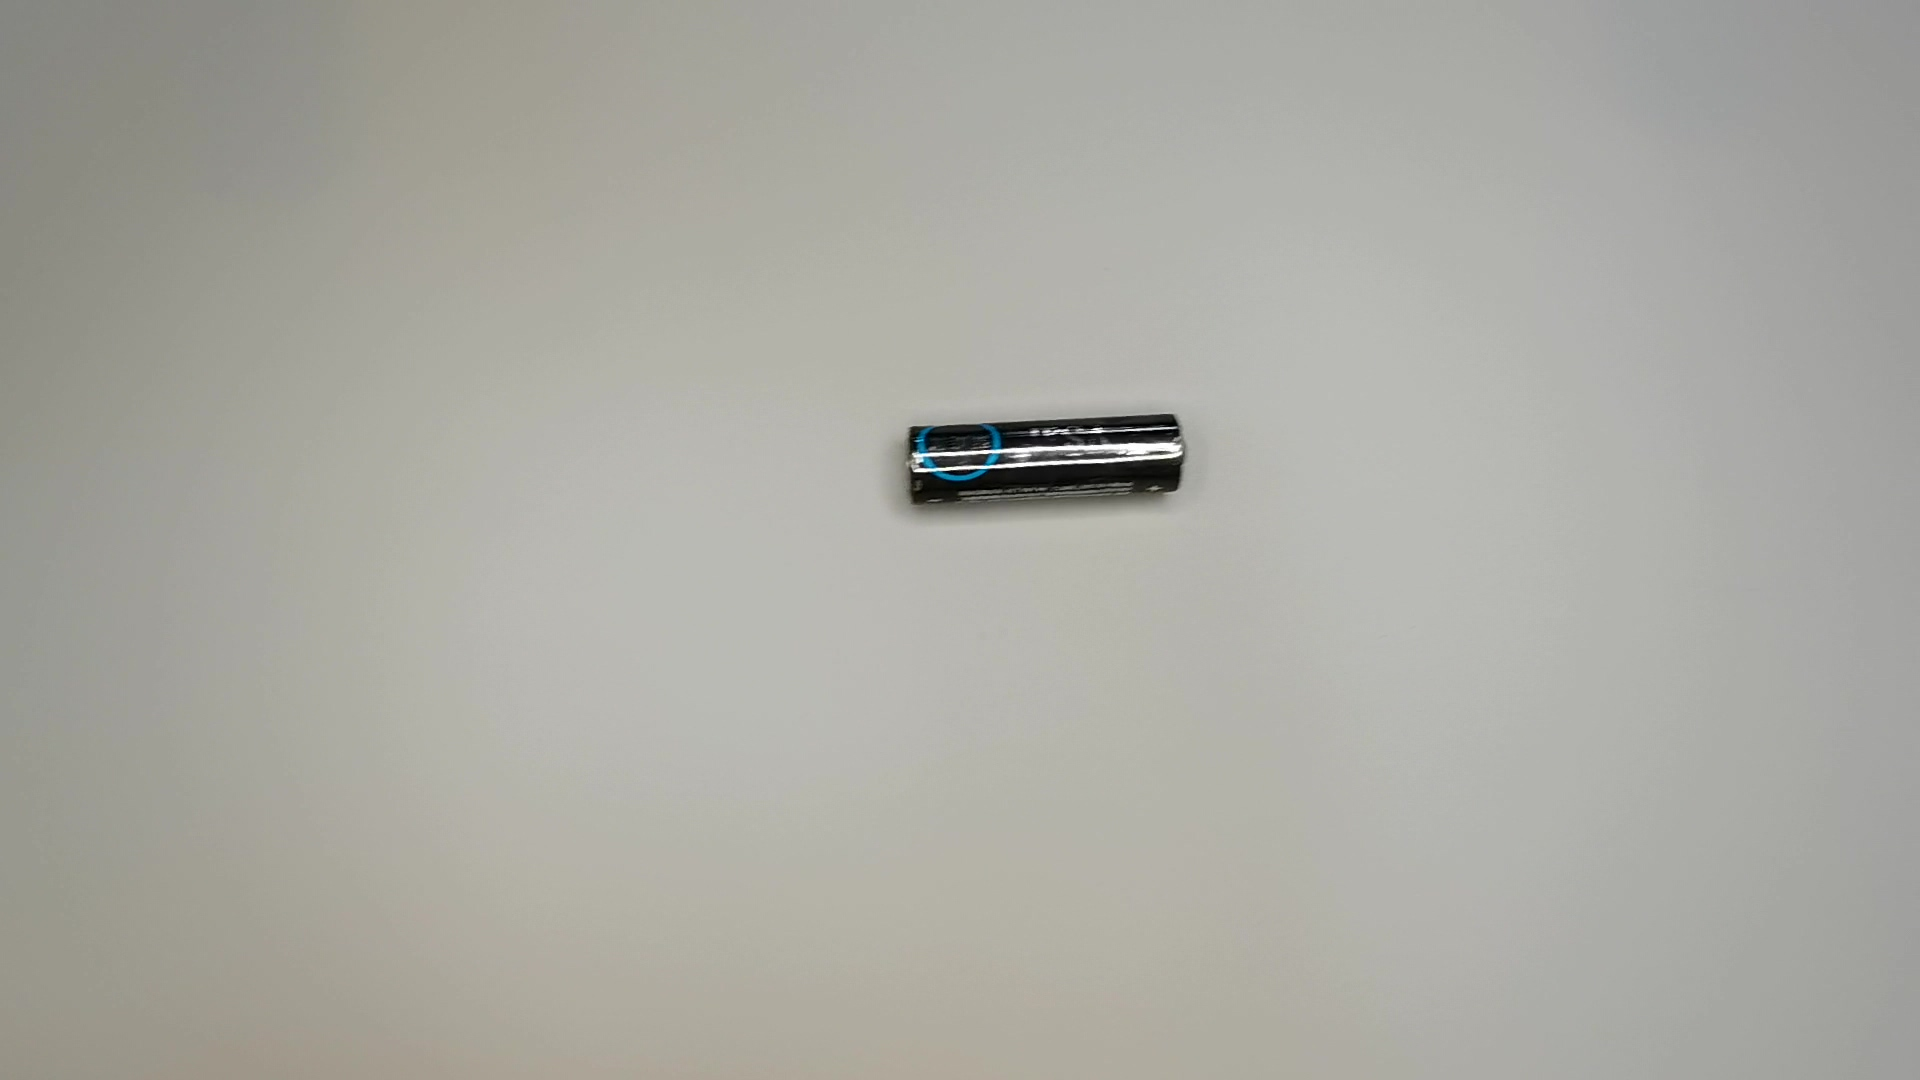battery: (895, 407, 1200, 512)
